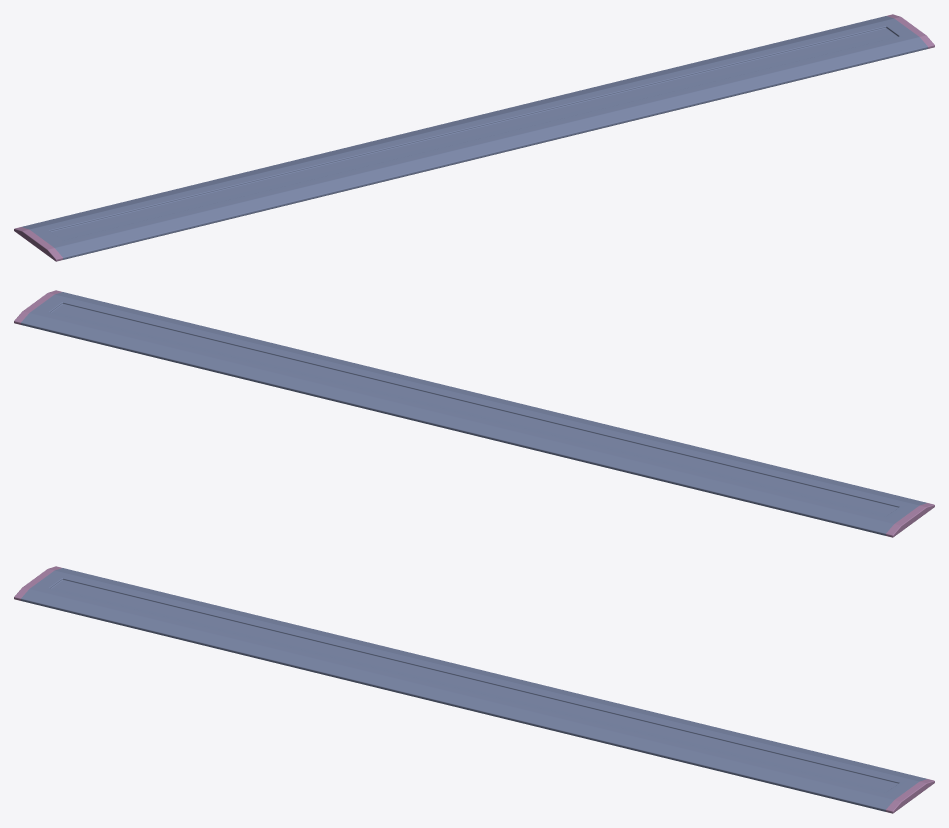
The model's file is HP_Ruler_01.fbx.
The picture shows the model from 3 angles, top to bottom: view 1: azimuth 30°, elevation 25°; view 2: azimuth 150°, elevation 25°; view 3: azimuth 330°, elevation 25°; orthographic projection.
Parts seen in each view (by area): view 1: pCube1; view 2: pCube1; view 3: pCube1.
Part boxes in pixels (x1,y1,x2,y2): pCube1: (14,14,934,261); pCube1: (14,290,934,537); pCube1: (14,566,934,813).
Bounding box in the file's own units: 30.5 × 0.2 × 2.53.
